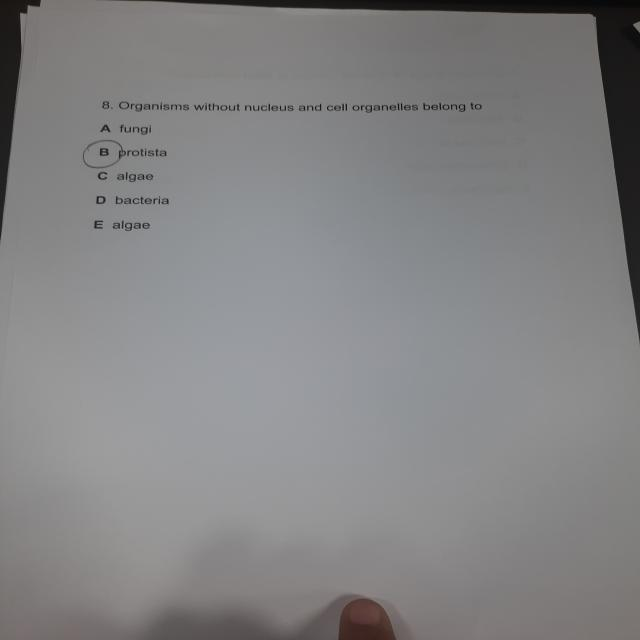B: (78, 140, 126, 170)
